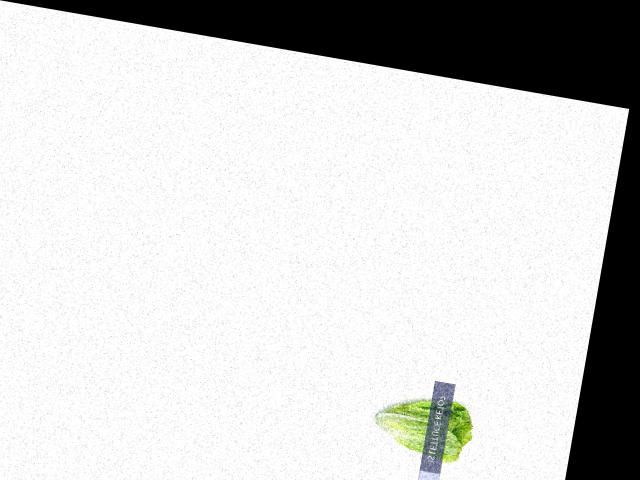lettuce: (360, 382, 478, 468)
